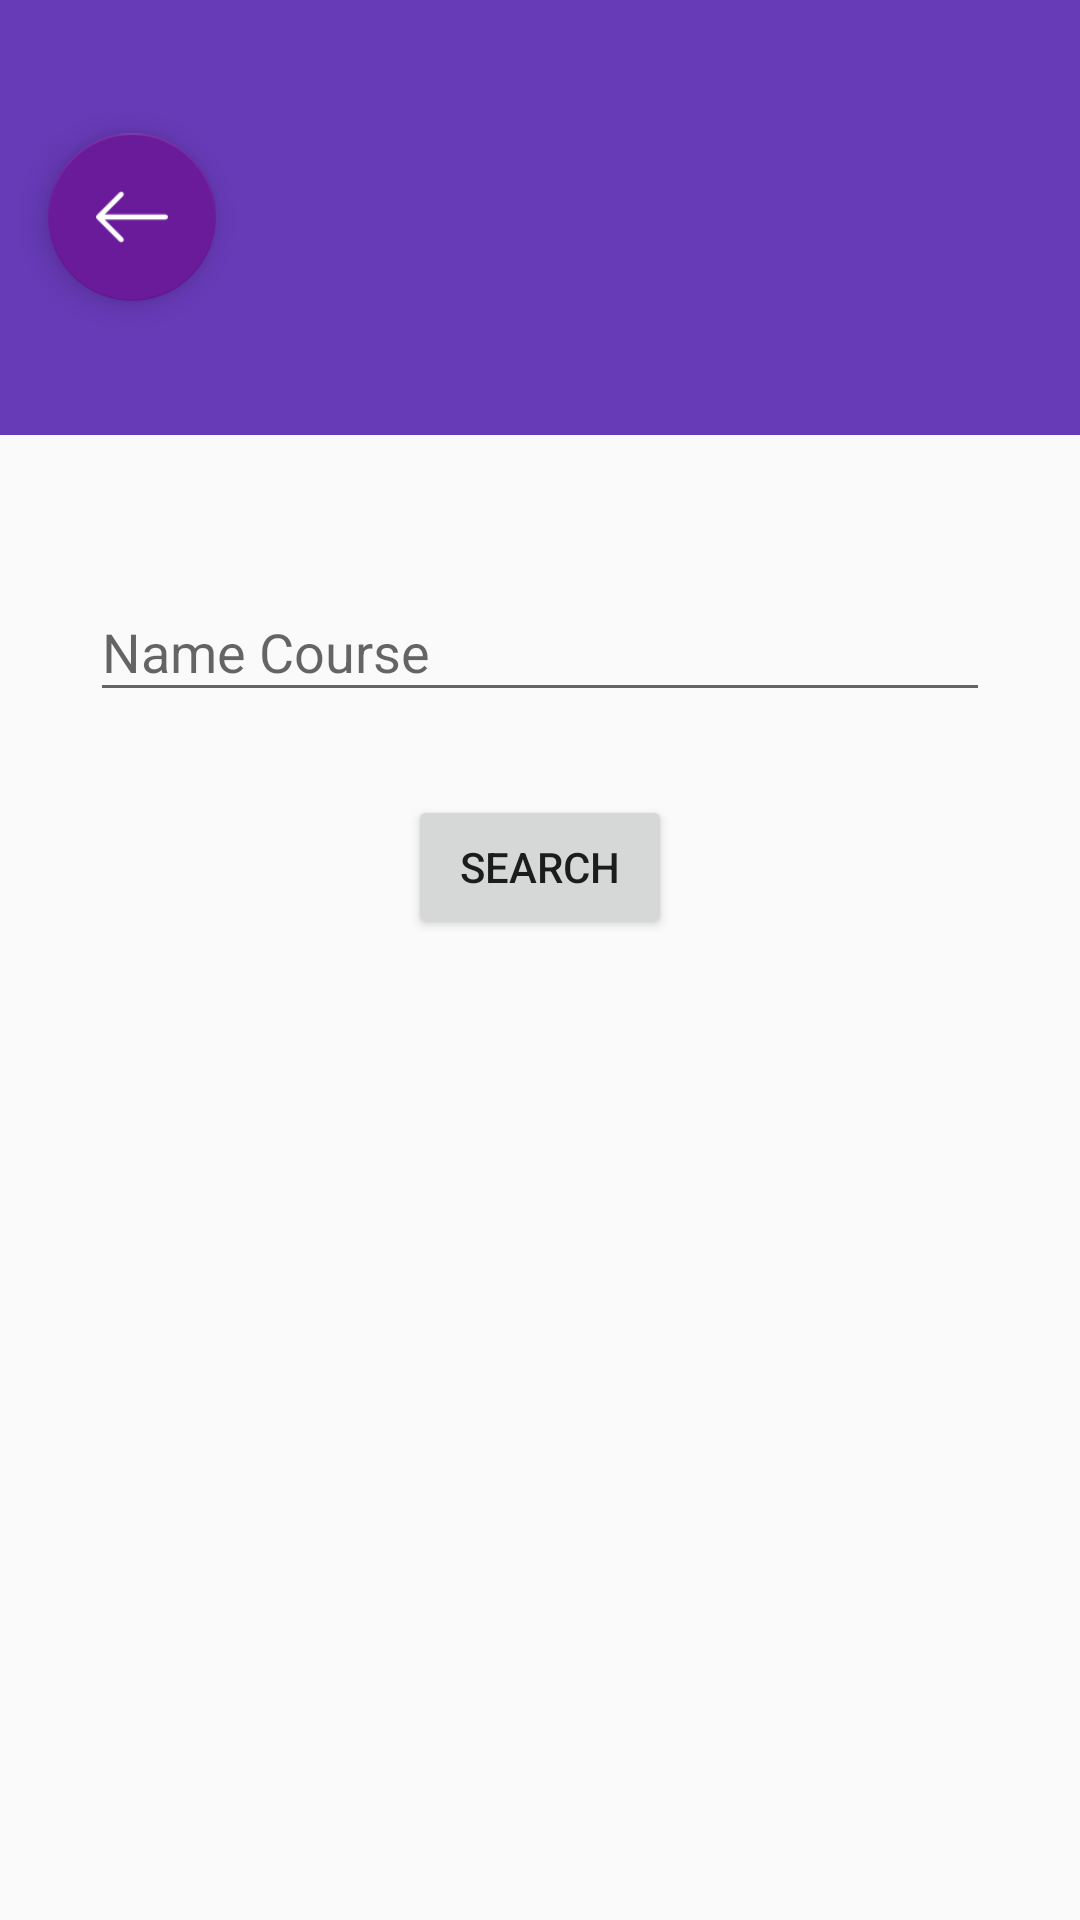

Icons on this 1080*1920 Android screen, each with the point to tap as (x=x, y=y):
left arrow: (x=132, y=217)
